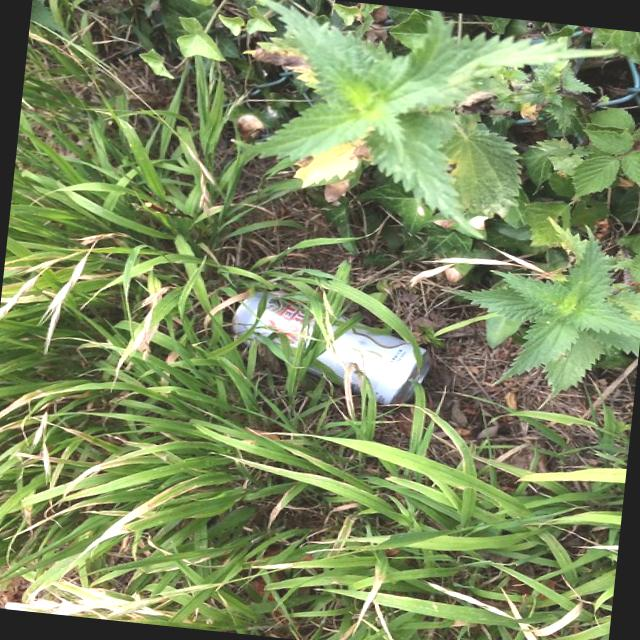Recycle: (222, 286, 438, 412)
